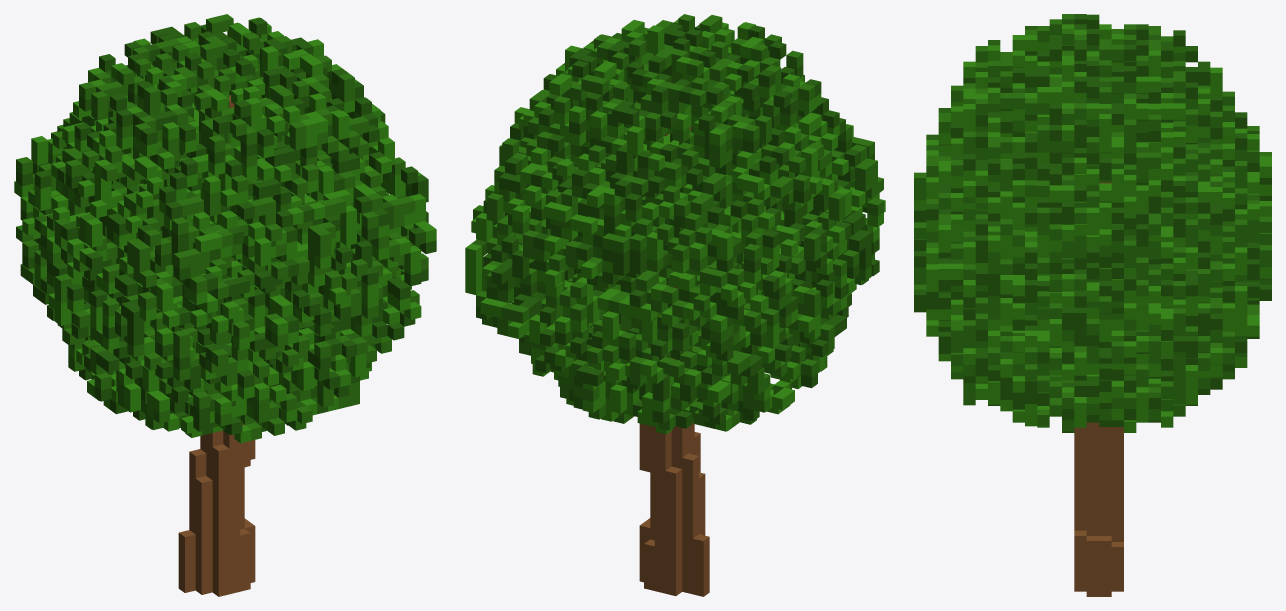
The model's file is Foliage_Tree_01.glb.
3 renders of one model, left to right at view 1: azimuth 30°, elevation 25°; view 2: azimuth 150°, elevation 25°; view 3: azimuth 270°, elevation 25°, orthographic.
Parts seen in each view (by area): view 1: Foliage_Tree_01; view 2: Foliage_Tree_01; view 3: Foliage_Tree_01.
Part boxes in pixels (x1,y1,x2,y2): Foliage_Tree_01: (14,14,436,596); Foliage_Tree_01: (465,14,885,596); Foliage_Tree_01: (914,14,1271,596).
Bounding box in the file's own units: 2.9 × 4.8 × 2.9.
Materials: 1 (1 with a texture image).
